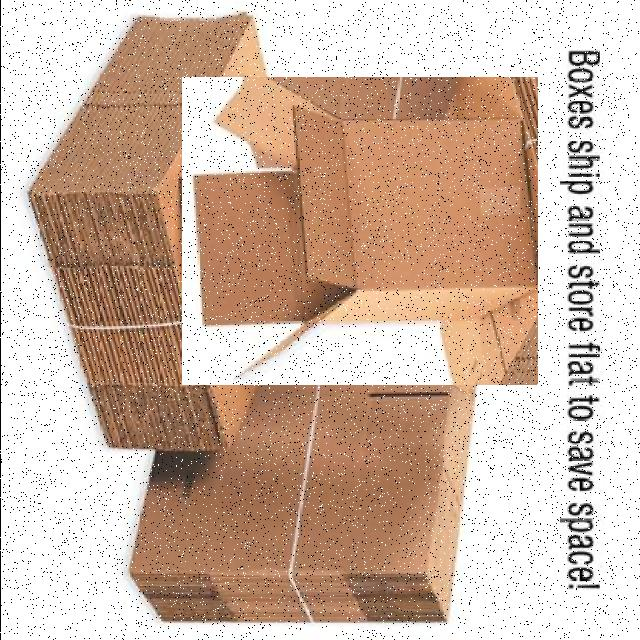defect: (181, 77, 537, 385)
